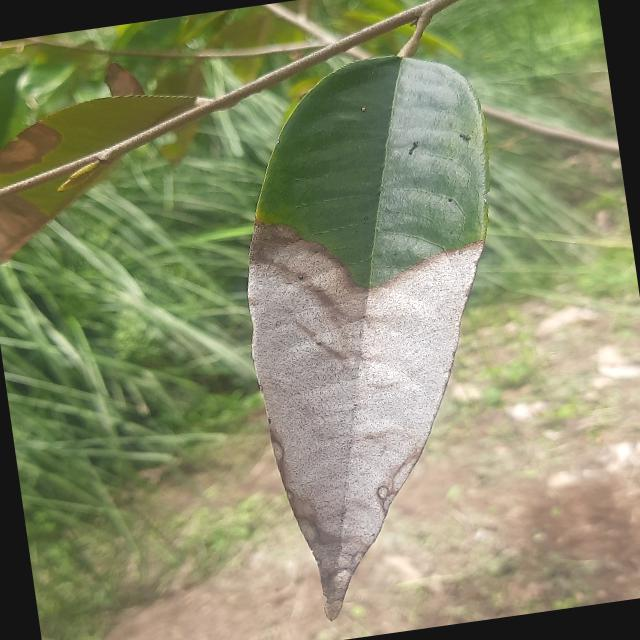Leaf Blight: (197, 30, 558, 634)
